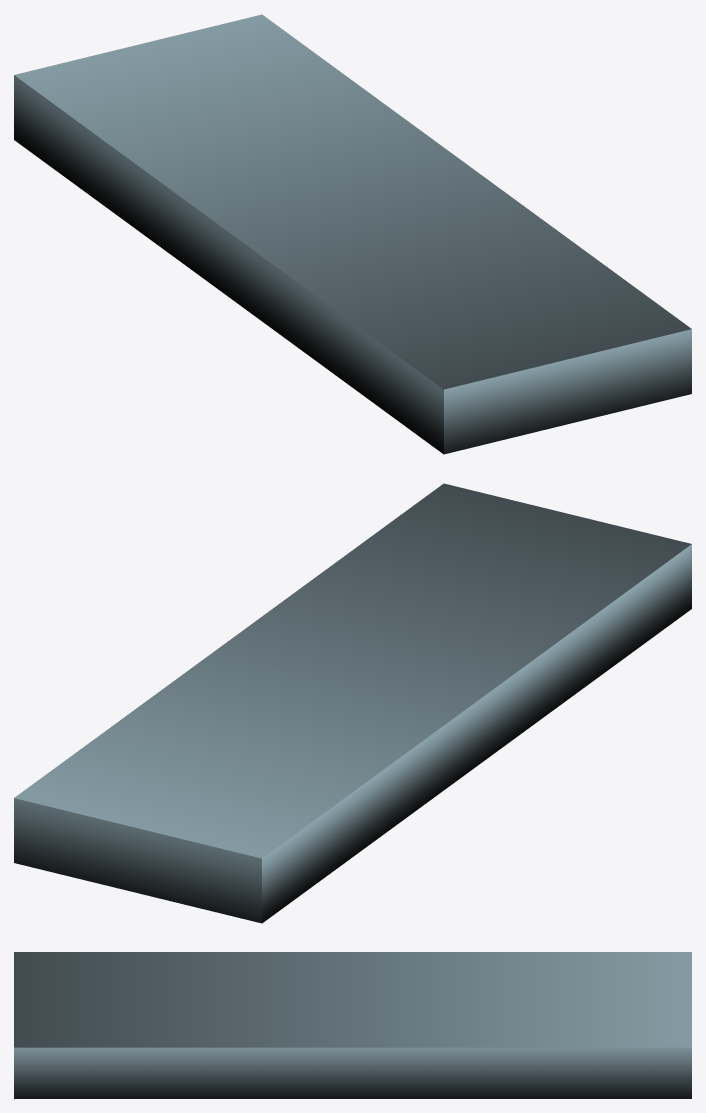
Rendered from lámpara.fbx.
The picture shows the model from 3 angles, top to bottom: view 1: azimuth 30°, elevation 25°; view 2: azimuth 150°, elevation 25°; view 3: azimuth 270°, elevation 25°; orthographic projection. The views are drawn at different scales.
Visible parts, largest first — view 1: Lampara.001; view 2: Lampara.001; view 3: Lampara.001.
Boxes of the visible parts, <box> form: Lampara.001: <box>14,14,691,454</box>; Lampara.001: <box>14,483,691,923</box>; Lampara.001: <box>14,952,691,1098</box>.
Size of the model in its own units: 50 by 12.5 by 150.
1 material, 1 textured.
